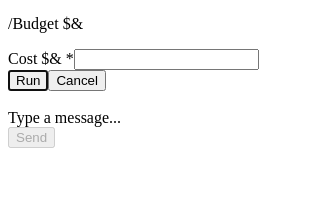
Test: CommandArgumentsForm › keeps labels with replacement patterns literal in the form name and the missing-values message
The width and height of the screenshot is (320, 199).
Click the button "Run" at x=28, y=80, box [8, 70, 48, 91]
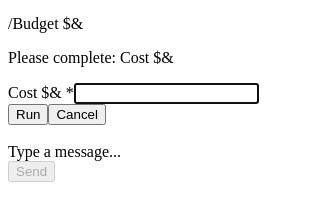
Expected: the message reads "Please complete: Cost $&", [8, 49, 174, 66]
